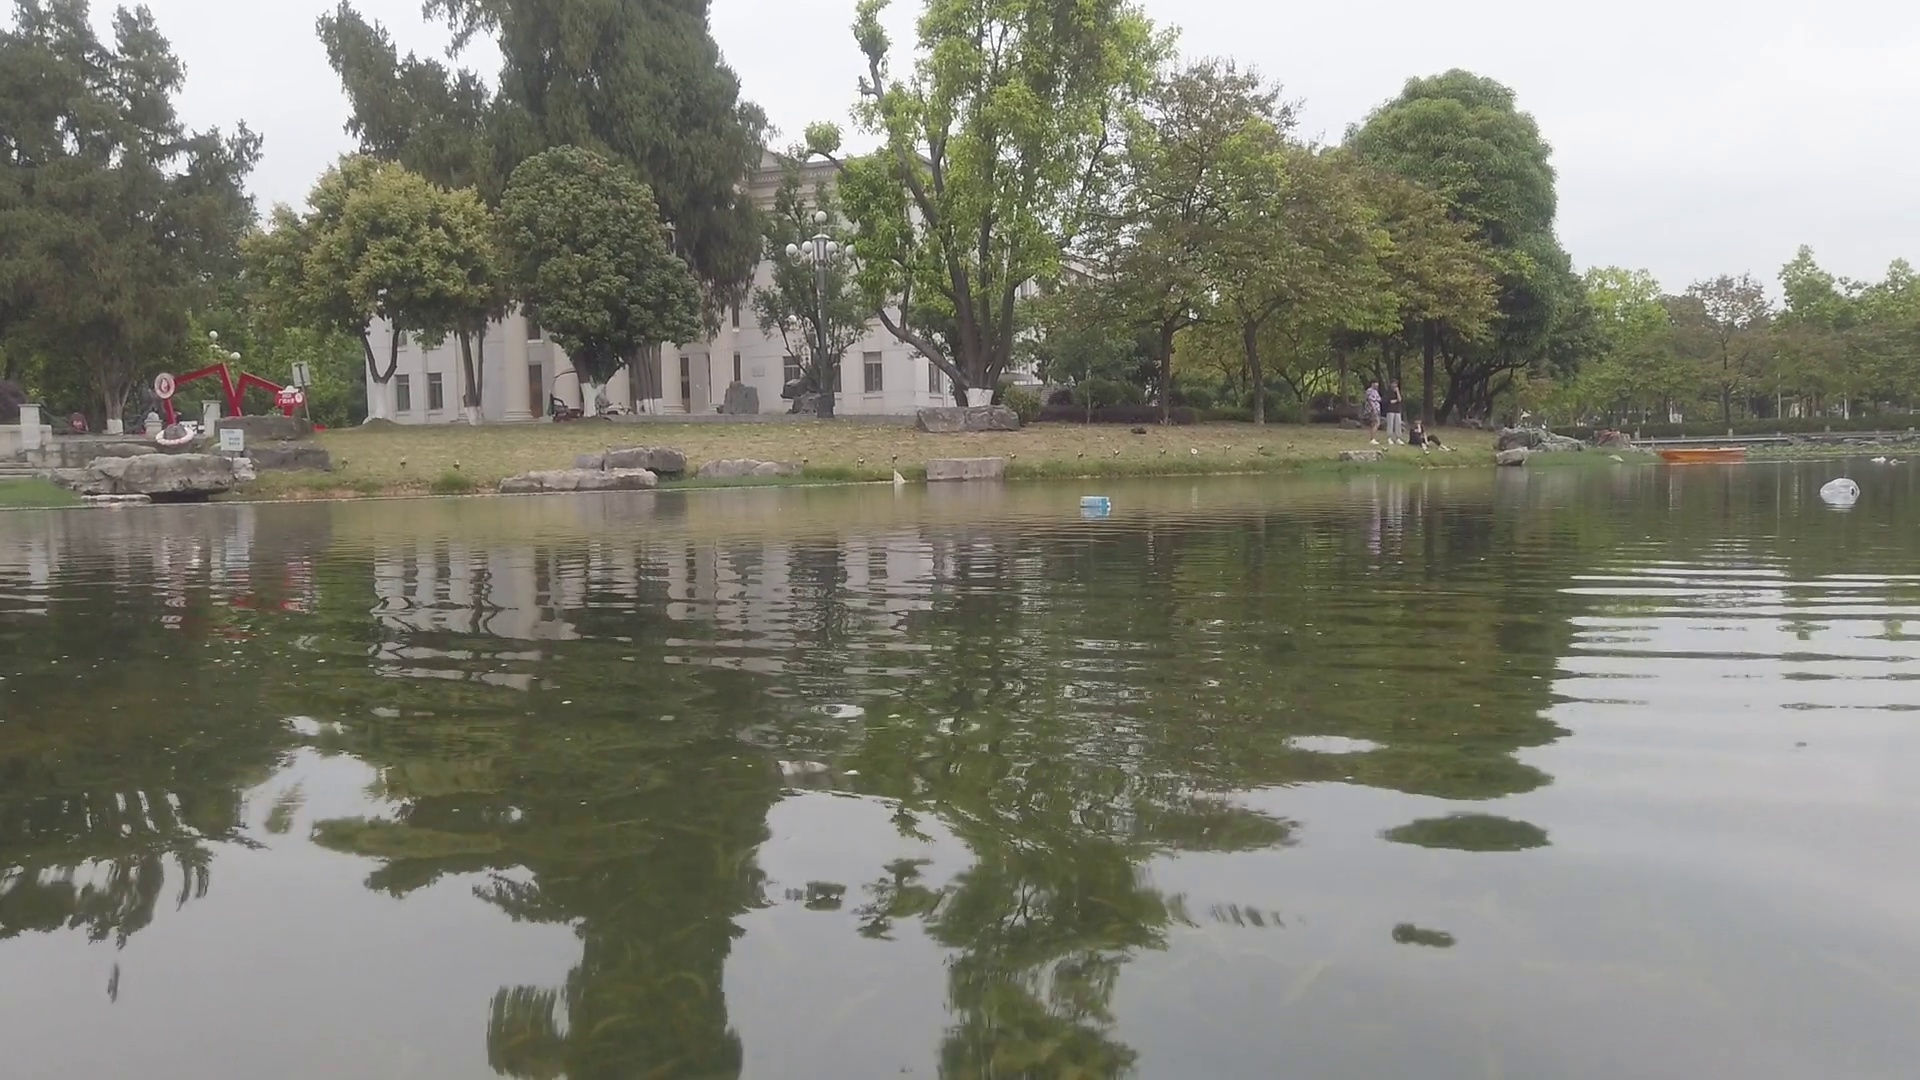carton: (1080, 495, 1112, 509)
plastic: (1821, 477, 1861, 505)
